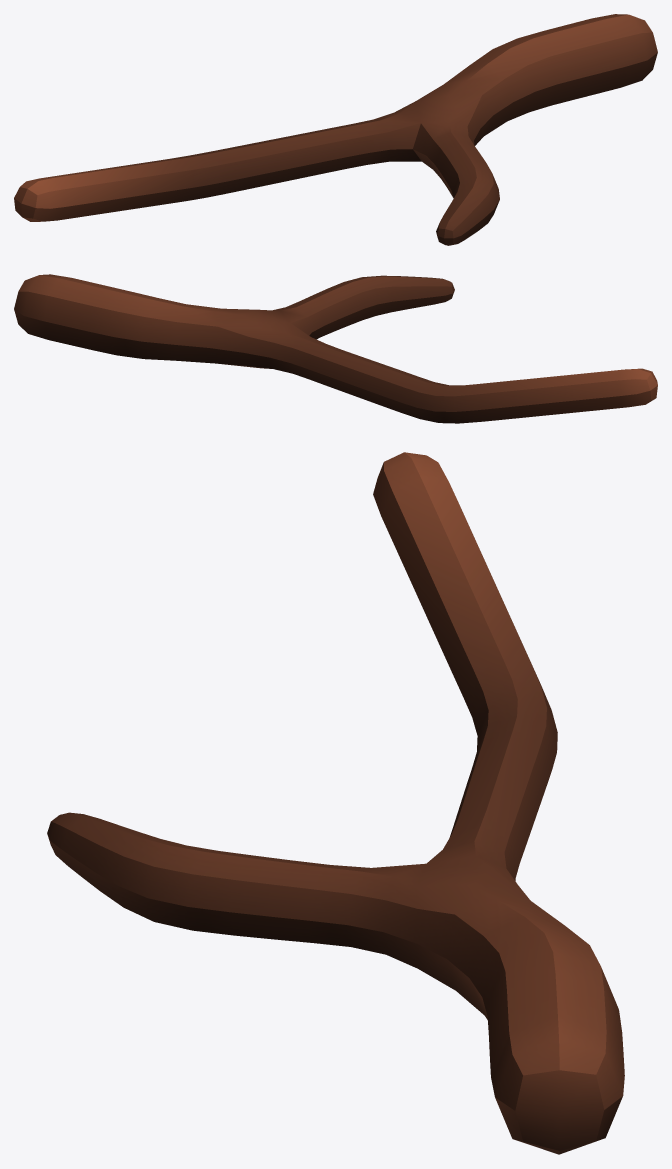
File: branch5.fbx
3 views of the same model, one above another, from view 1: azimuth 30°, elevation 25°; view 2: azimuth 150°, elevation 25°; view 3: azimuth 270°, elevation 25° (orthographic). The views are drawn at different scales.
Parts seen in each view (by area): view 1: branch4; view 2: branch4; view 3: branch4.
Part boxes in pixels (x1,y1,x2,y2): branch4: [14, 14, 657, 245]; branch4: [14, 274, 657, 423]; branch4: [47, 452, 624, 1154].
Size of the model in its own units: 164 by 19.83 by 68.72.
